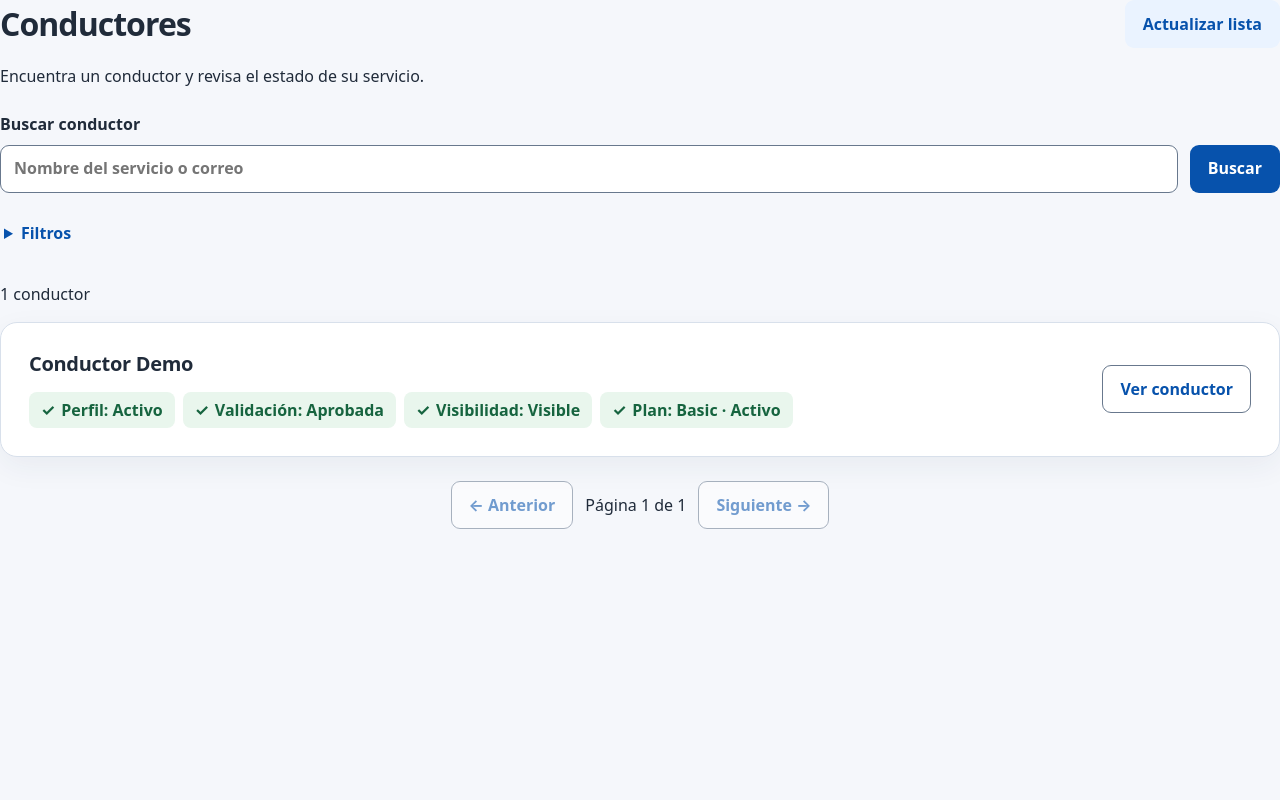
profile server failure stays readable inside the modal and keeps the reason
Click the button "Ver conductor" at (1177, 390), box [1102,366,1251,414]
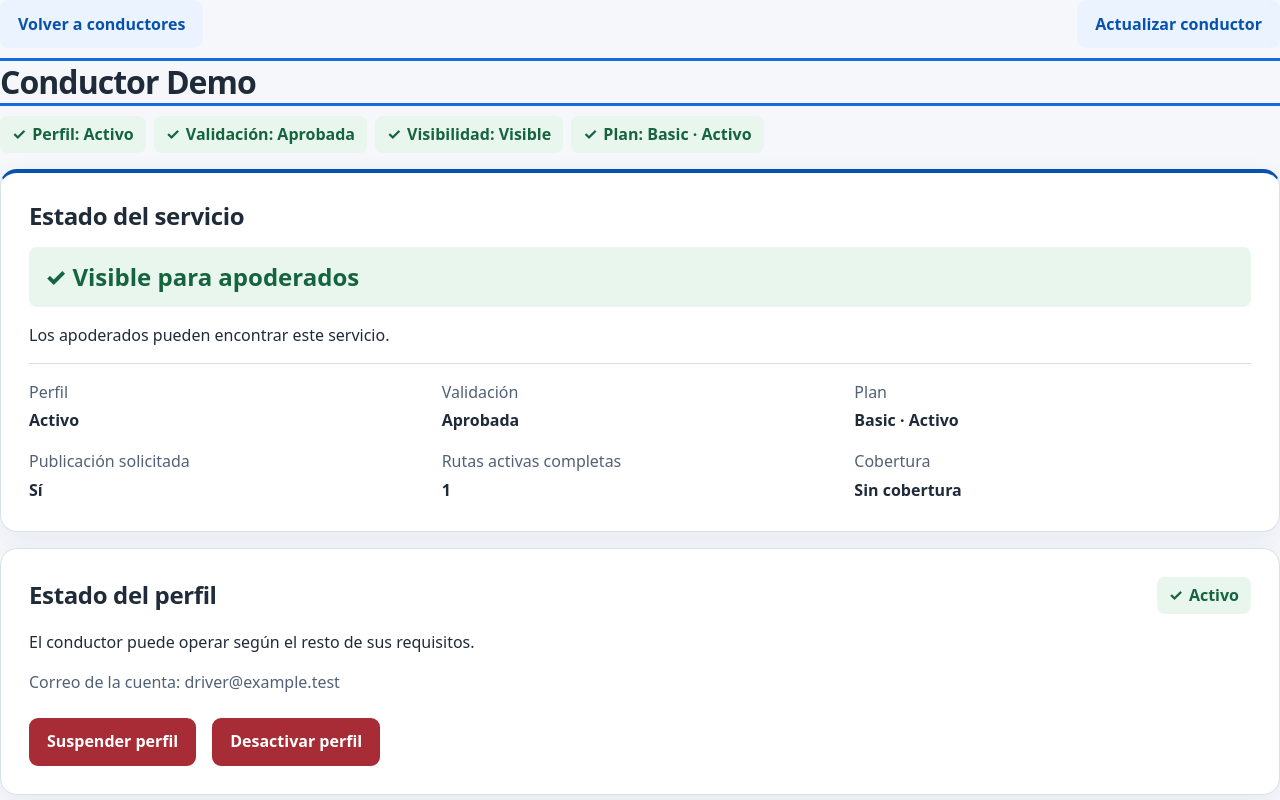
Check: the element "Estado del servicio" is shown, box [0,169,1279,532]
Click the button "Suspender perfil" at (113, 742), box [29,718,196,766]
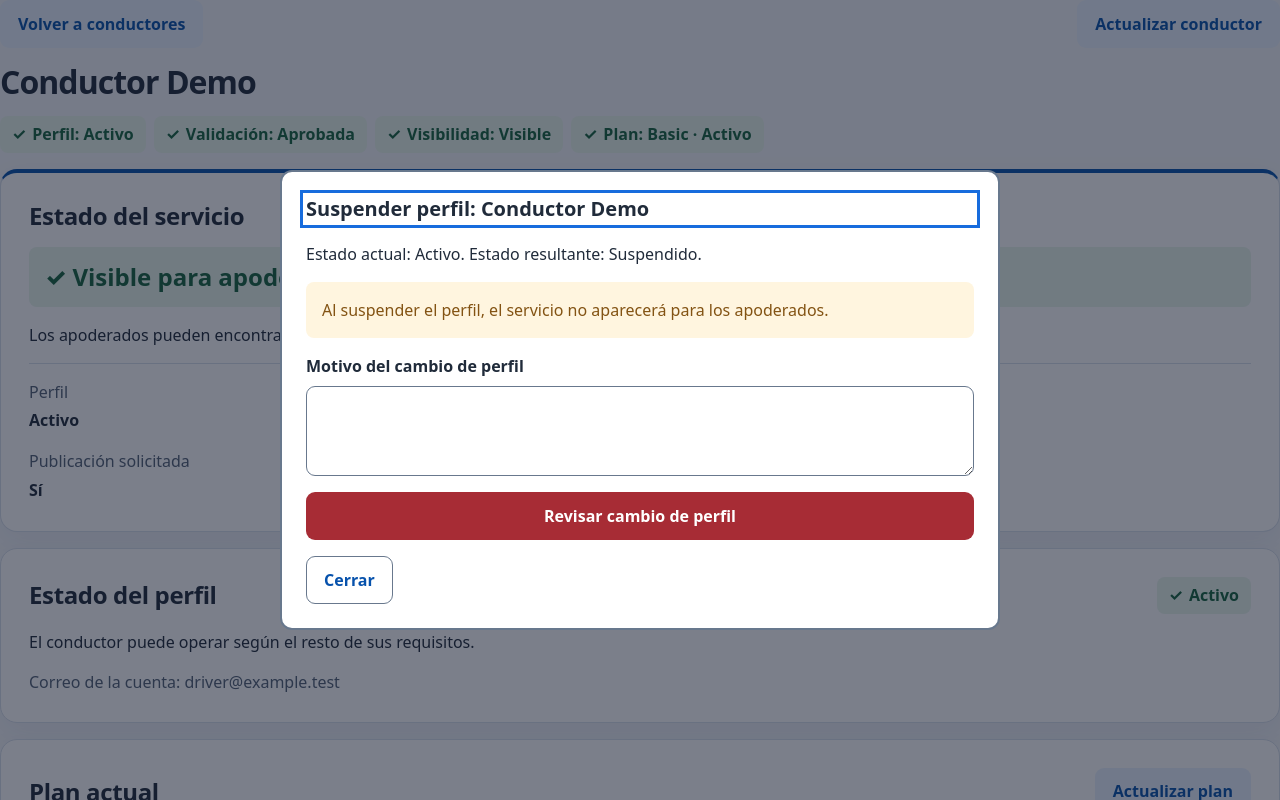
Type "Motivo conservado en el diálogo" into the text box labelled "Motivo del cambio de perfil" at (640, 431), box [306,386,974,476]
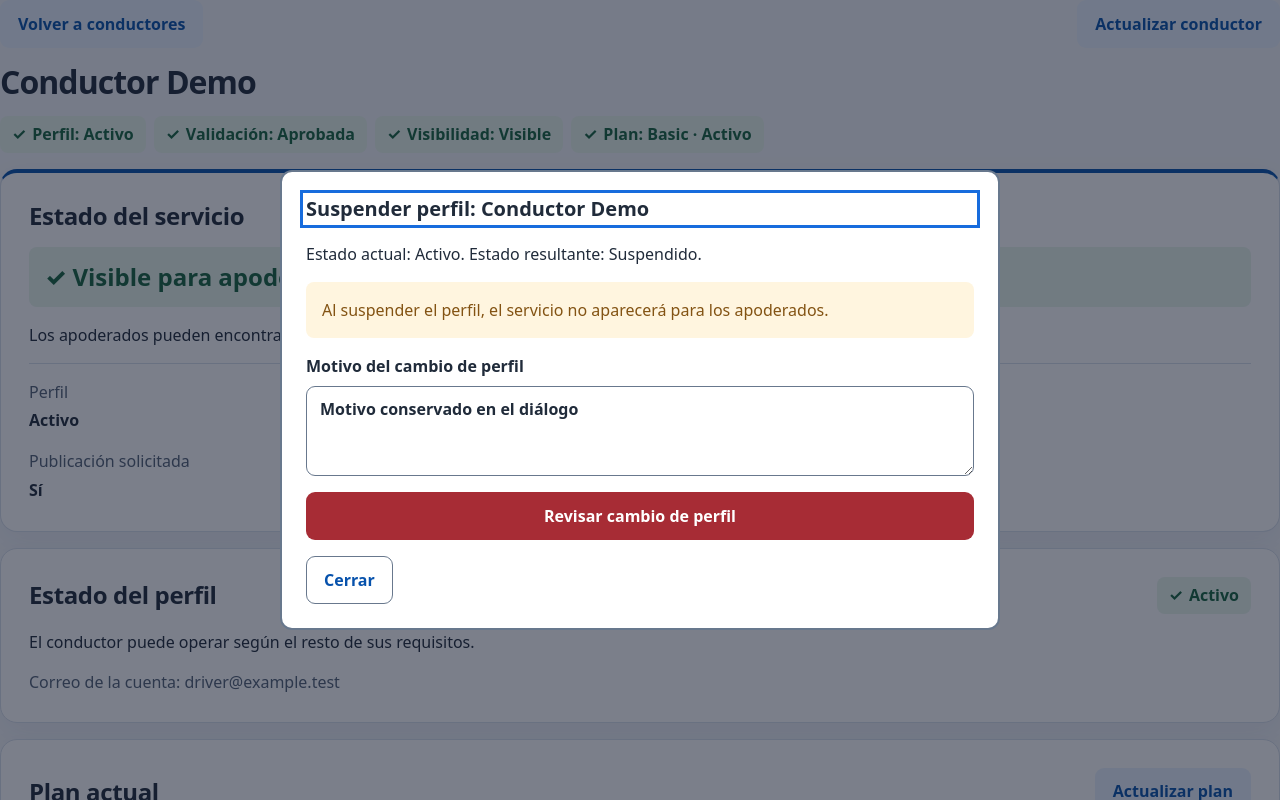
Click the button "Revisar cambio de perfil" at (640, 516), box [306,492,974,540]
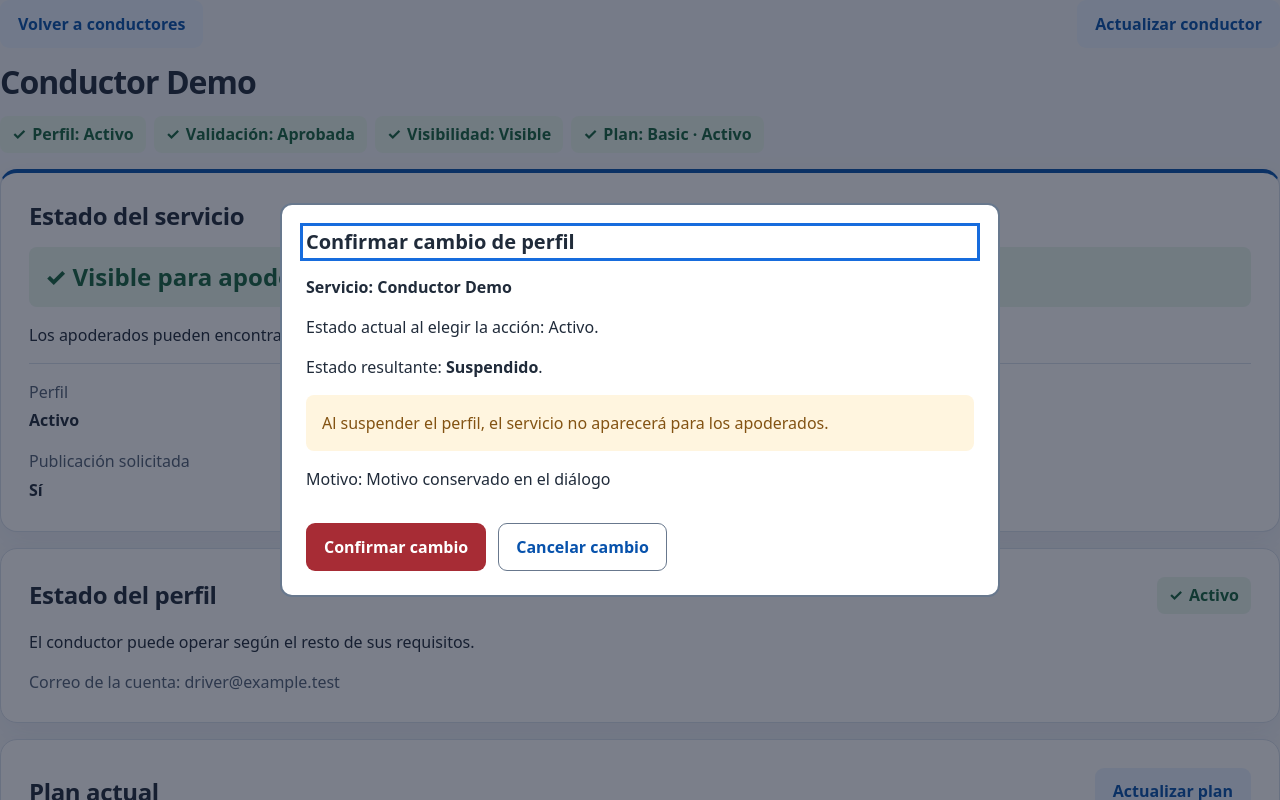
Click the button "Confirmar cambio" at (396, 547), box [306,523,486,571]
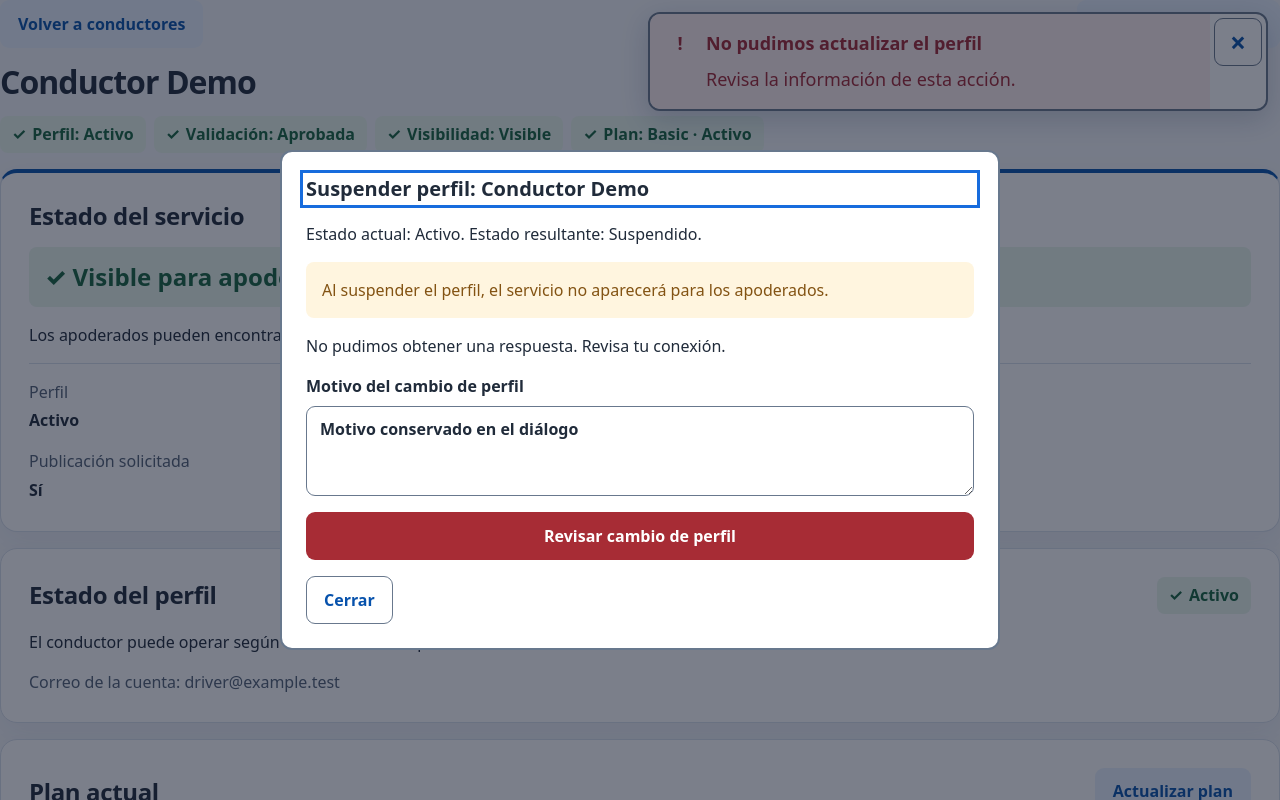
Check: the message reads "No pudimos obtener una respuesta. Revisa tu conexión.", box [306,335,726,357]
Check: the text box labelled "Motivo del cambio de perfil" holds "Motivo conservado en el diálogo", box [306,406,974,496]
